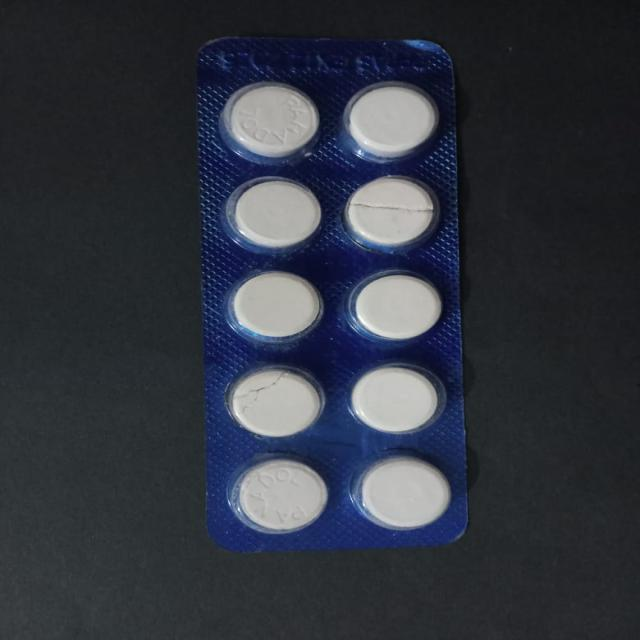defect: (339, 170, 446, 257), (222, 361, 331, 442)
